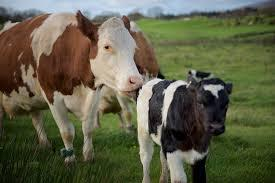cow: (0, 9, 146, 169), (63, 20, 160, 130), (137, 78, 233, 183), (187, 69, 214, 79)
